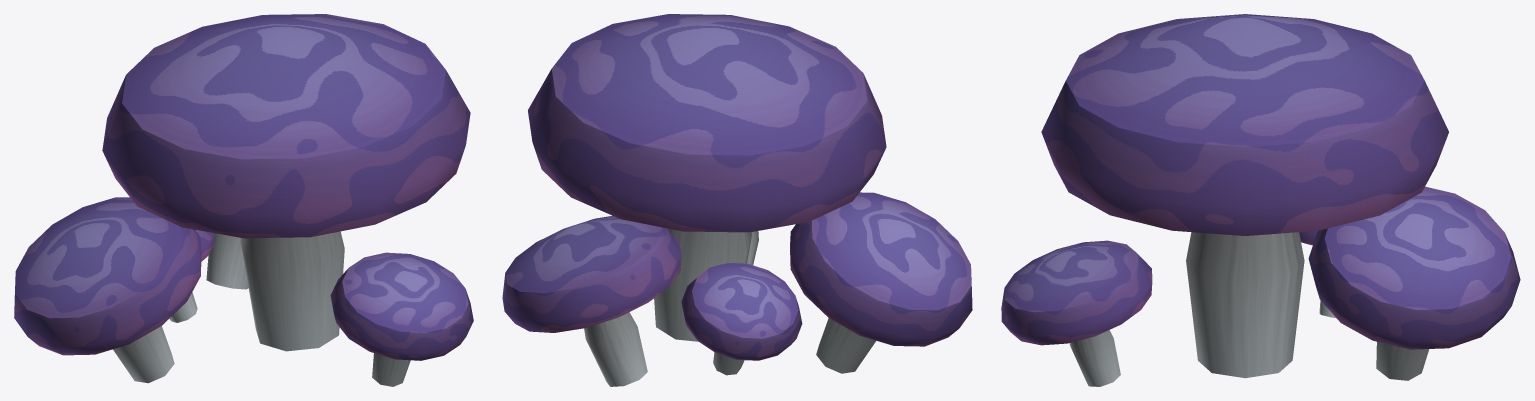
File: VEG0110012.fbx
3 views of the same model, side by side, from view 1: azimuth 30°, elevation 25°; view 2: azimuth 150°, elevation 25°; view 3: azimuth 270°, elevation 25° (orthographic). The views are drawn at different scales.
Visible parts, largest first — view 1: smVEG0110012; view 2: smVEG0110012; view 3: smVEG0110012.
Part boxes in pixels (x1,y1,x2,y2): smVEG0110012: [14, 14, 473, 386]; smVEG0110012: [502, 14, 972, 386]; smVEG0110012: [1001, 14, 1520, 386].
Bounding box in the file's own units: 63.38 × 45.17 × 61.79.
1 material, 1 textured.
